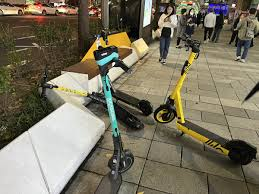fallin_kick: (39, 68, 142, 130)
kick_board: (155, 36, 259, 165), (95, 45, 132, 194)
kick_handler: (94, 46, 130, 72), (181, 33, 199, 52)
kick_neck: (104, 77, 121, 144), (172, 53, 195, 96)
kick_wheel: (230, 140, 253, 165), (113, 151, 134, 172), (154, 104, 175, 124)
